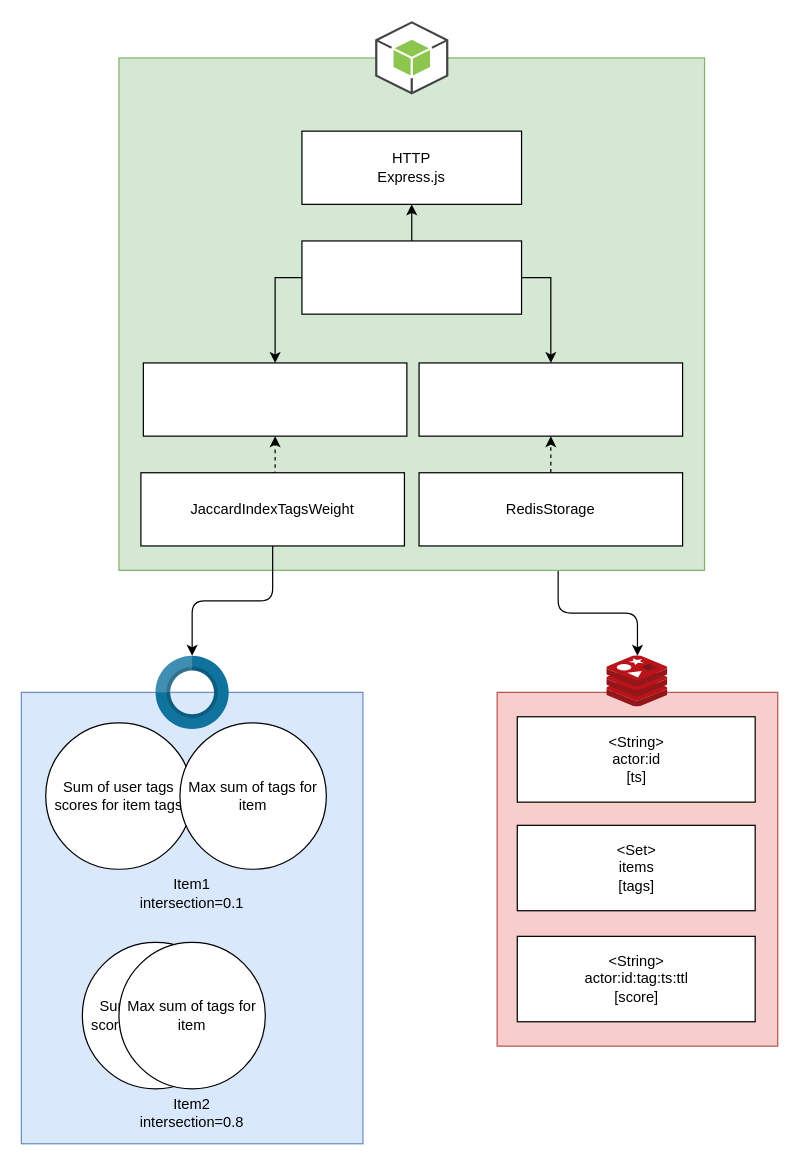
This 799x1165 diagram has some shape labels left out. The shapes that lost their labels are listed below. From the top down, each one's centre as x and y in pixels, then its label:
At pixel 411 277: "Controllers".
At pixel 274 399: "<<RecommendationStrategy>>".
At pixel 550 399: "<<DataStorage>>".
